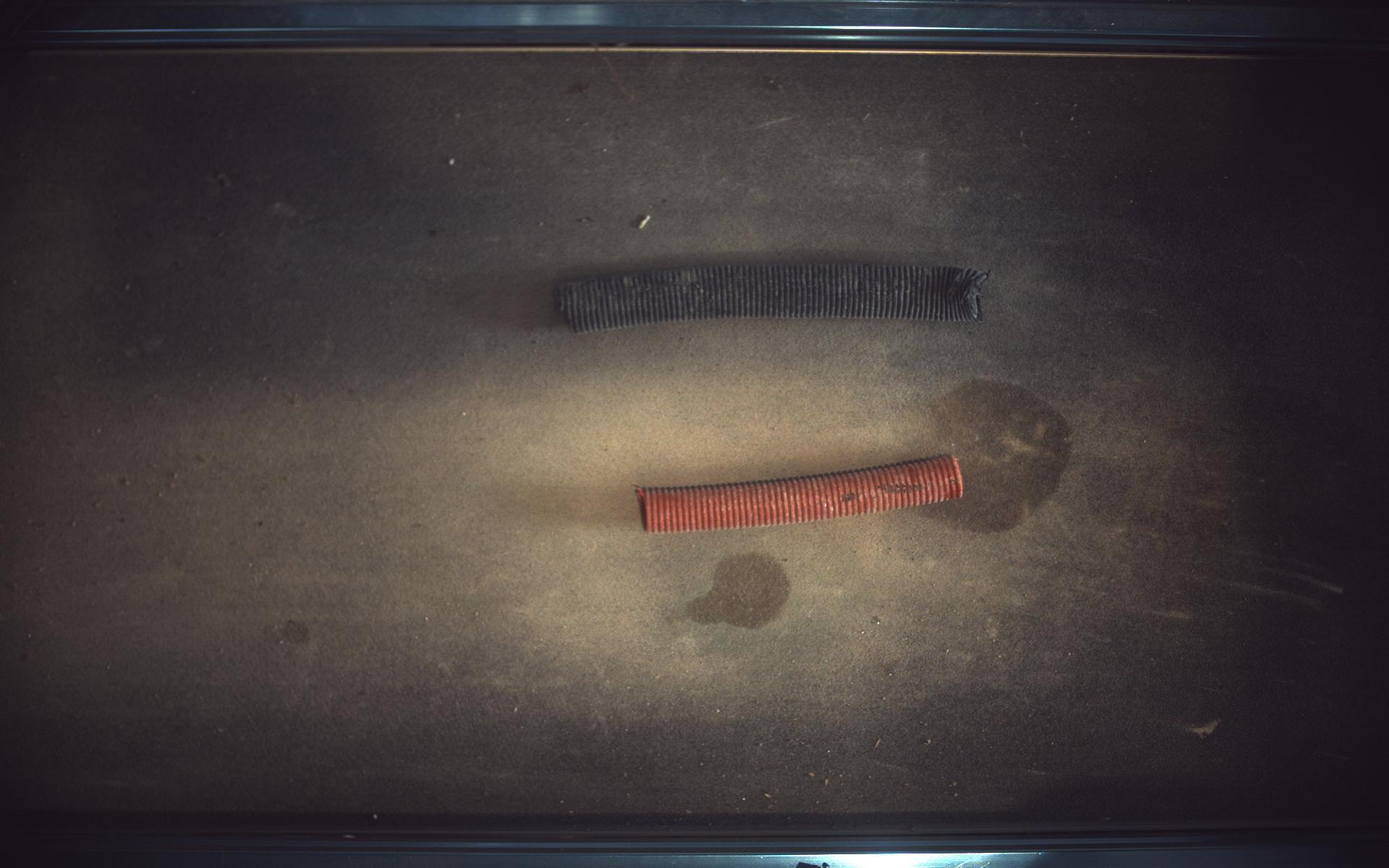pipes: (557, 263, 990, 332), (637, 455, 964, 533)
